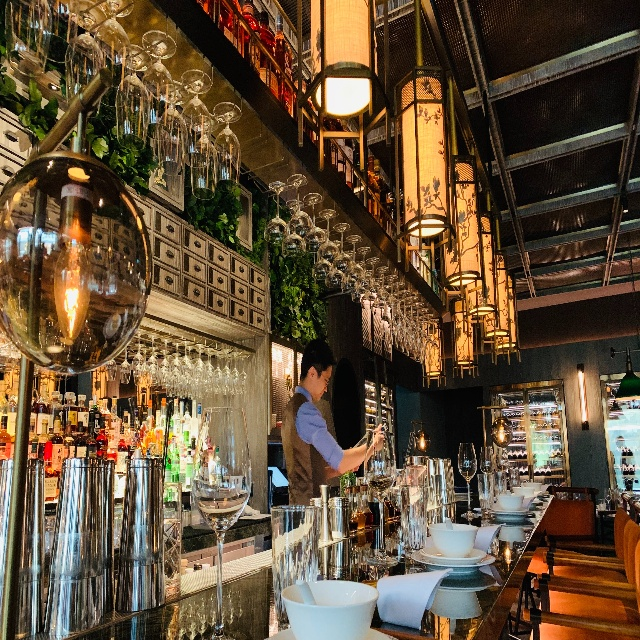Gafas: (316, 367, 330, 387)
Sin_guantes: (373, 423, 384, 451)
